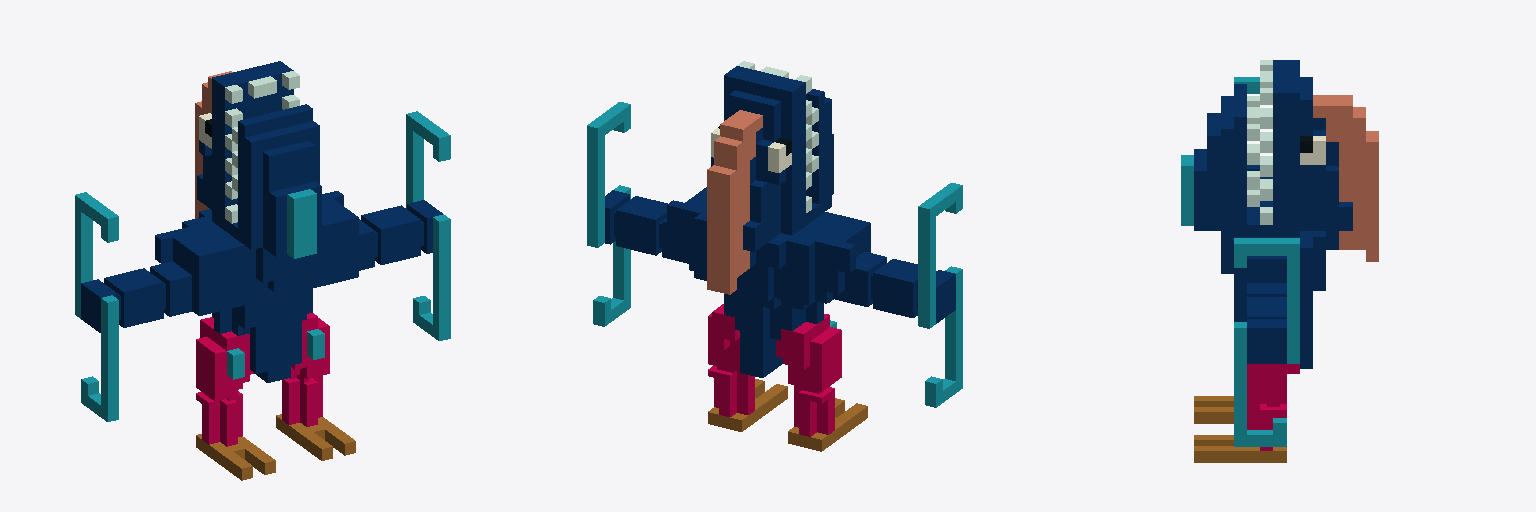
3 renders of one model, left to right at view 1: azimuth 30°, elevation 25°; view 2: azimuth 150°, elevation 25°; view 3: azimuth 270°, elevation 25°, orthographic.
Visible parts, largest first — view 1: Shark_Untitled.003; view 2: Shark_Untitled.003; view 3: Shark_Untitled.003.
Part boxes in pixels (x1,y1,x2,y2): Shark_Untitled.003: (75, 61, 450, 480); Shark_Untitled.003: (587, 61, 962, 451); Shark_Untitled.003: (1181, 60, 1378, 462).
Bounding box in the file's own units: 6 × 6 × 3.
1 materials, 1 textured.